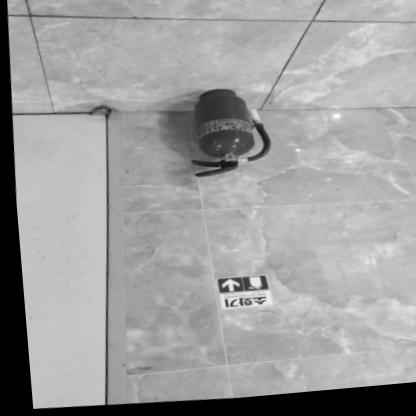FE: (180, 87, 270, 184)
